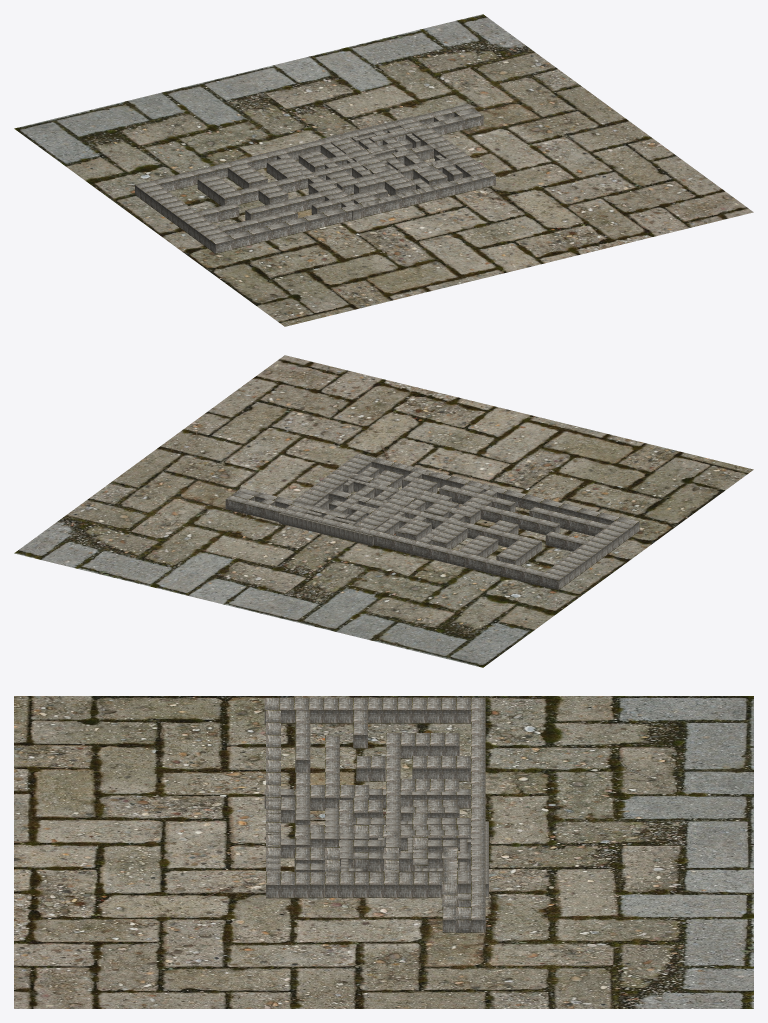
Rendered from Maze.fbx.
3 renders of one model, top to bottom at view 1: azimuth 30°, elevation 25°; view 2: azimuth 150°, elevation 25°; view 3: azimuth 270°, elevation 25°, orthographic. The views are drawn at different scales.
Visible parts, largest first — view 1: Floor; view 2: Floor; view 3: Floor.
Part boxes in pixels (left/top/right/bottom): Floor: left=14, top=14, right=753, bottom=326; Floor: left=14, top=355, right=753, bottom=667; Floor: left=14, top=696, right=753, bottom=1008.
Bounding box in the file's own units: 20000 × 416 × 20000.
